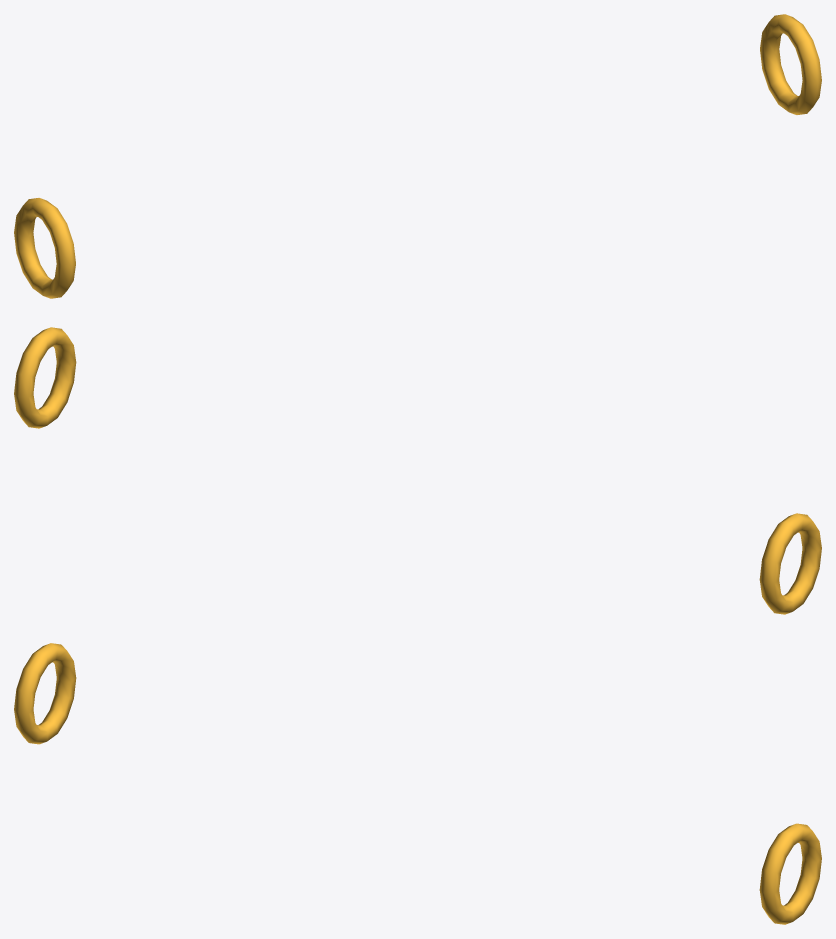
The model's file is lobe-hoops.fbx.
The picture shows the model from 3 angles, top to bottom: view 1: azimuth 30°, elevation 25°; view 2: azimuth 150°, elevation 25°; view 3: azimuth 330°, elevation 25°; orthographic projection.
Parts seen in each view (by area): view 1: Bear__HelixL_Ring, Bear__HelixR_Ring; view 2: Bear__HelixL_Ring, Bear__HelixR_Ring; view 3: Bear__HelixL_Ring, Bear__HelixR_Ring.
Boxes of the visible parts, bbox=[...] form: Bear__HelixL_Ring: bbox=[14, 198, 75, 298]; Bear__HelixR_Ring: bbox=[760, 14, 821, 114]; Bear__HelixL_Ring: bbox=[759, 513, 821, 614]; Bear__HelixR_Ring: bbox=[14, 327, 76, 428]; Bear__HelixL_Ring: bbox=[14, 643, 76, 744]; Bear__HelixR_Ring: bbox=[759, 823, 821, 924].
Size of the model in its own units: 94.57 by 11.35 by 11.58.
